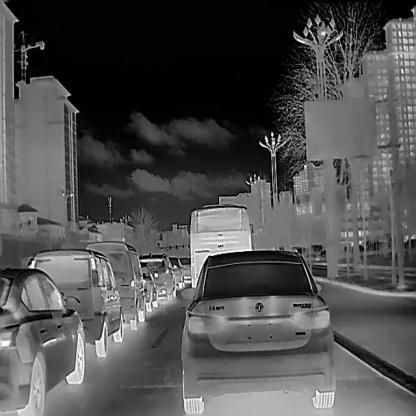bus: (189, 201, 252, 289)
car: (180, 247, 336, 414), (0, 265, 84, 415), (27, 246, 124, 357), (84, 239, 146, 331), (138, 252, 176, 301)
